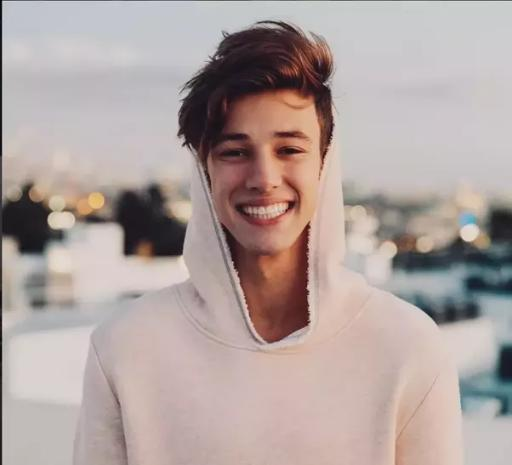left_eye: (277, 146, 307, 157)
left_lip_corner: (290, 194, 302, 207)
right_eye: (219, 148, 249, 160)
right_lip_corner: (232, 201, 244, 212)
